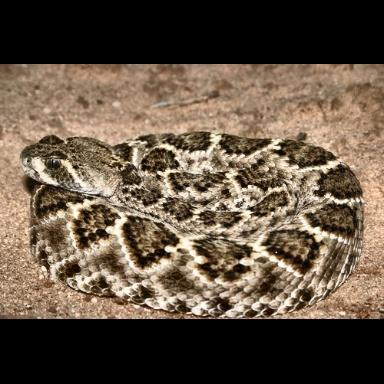snake: (20, 131, 360, 316)
